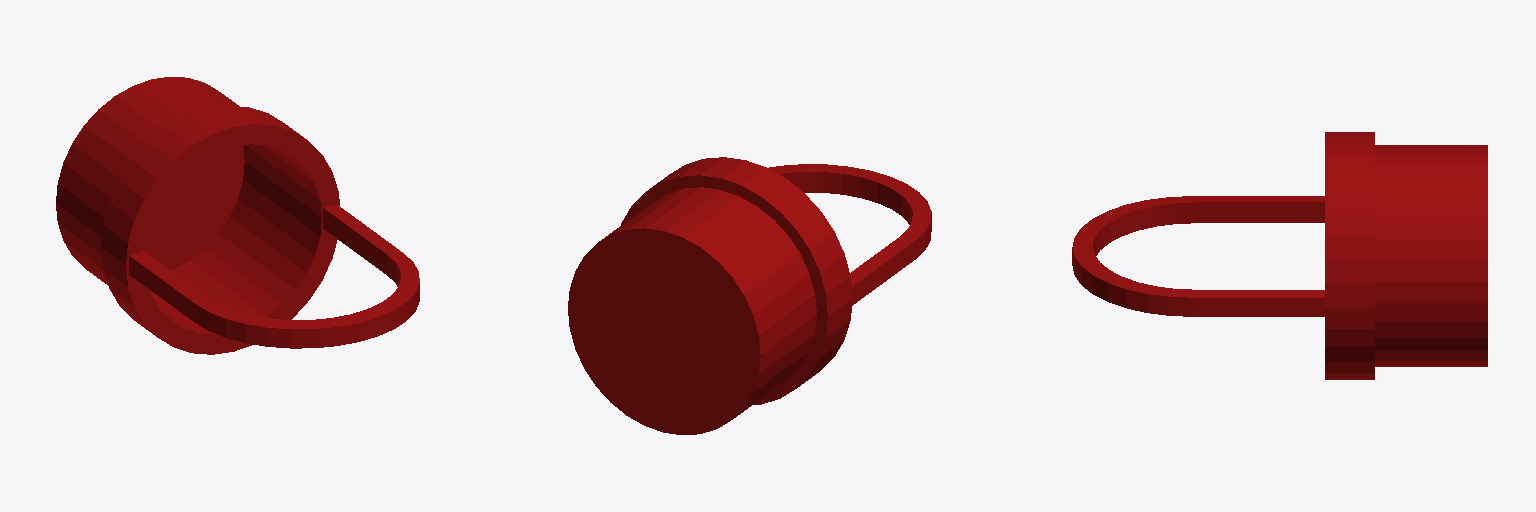
File: pozoRojo.obj
3 renders of one model, left to right at view 1: azimuth 30°, elevation 25°; view 2: azimuth 150°, elevation 25°; view 3: azimuth 270°, elevation 25°, orthographic.
Parts seen in each view (by area): view 1: Cylinder.001, Cylinder_Cylinder.002; view 2: Cylinder.001, Cylinder_Cylinder.002; view 3: Cylinder.001, Cylinder_Cylinder.002.
Boxes of the visible parts, <box> form: Cylinder.001: <box>56,77,339,354</box>; Cylinder_Cylinder.002: <box>129,205,419,348</box>; Cylinder.001: <box>568,157,852,434</box>; Cylinder_Cylinder.002: <box>768,164,931,305</box>; Cylinder.001: <box>1325,132,1487,379</box>; Cylinder_Cylinder.002: <box>1072,196,1324,316</box>.
Bounding box in the file's own units: 4.81 × 4.81 × 8.04.